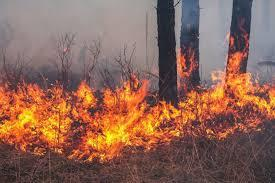fire: (0, 33, 275, 158)
